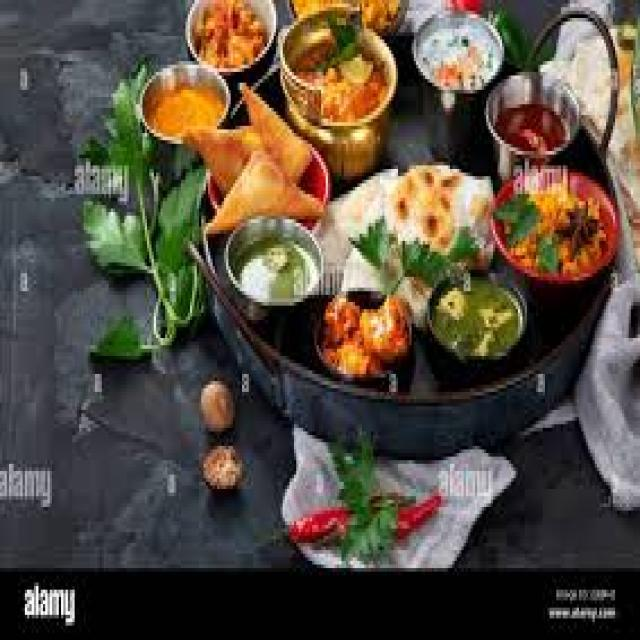curd: (413, 10, 505, 95)
dal: (494, 162, 612, 294), (426, 277, 527, 390)
raita: (412, 11, 504, 94)
roti: (380, 156, 494, 276)
sweet: (487, 69, 581, 162)
veg-fry: (280, 10, 394, 135), (185, 0, 274, 76)
